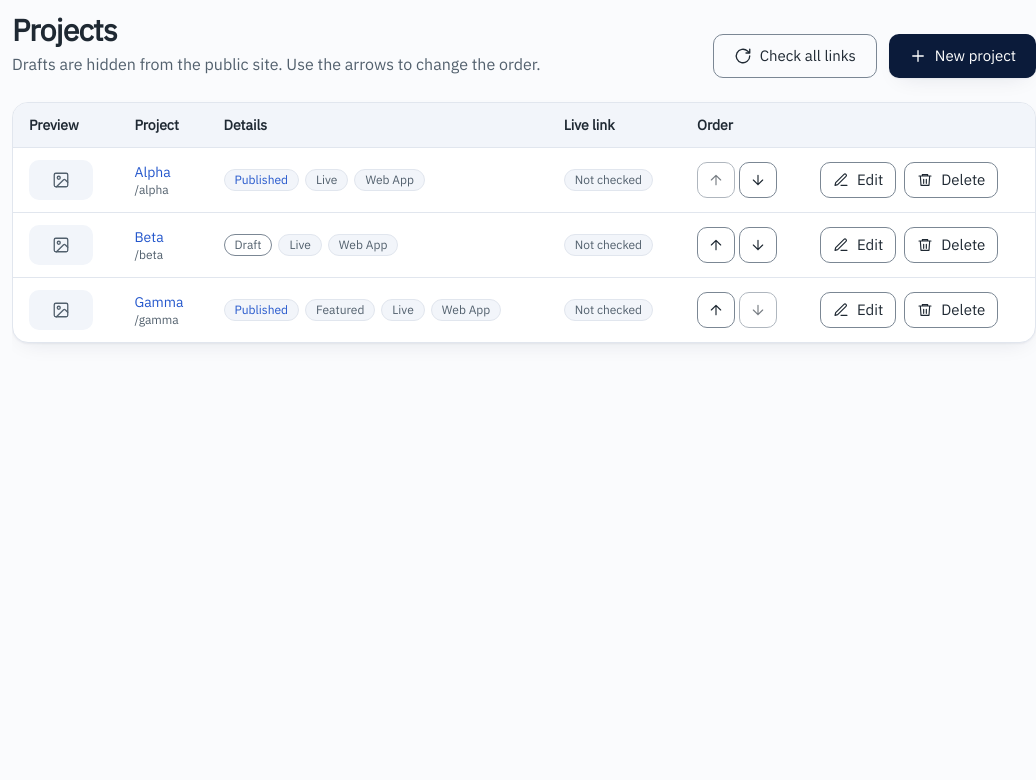
Test: ProjectsPage › checks all links, shows each result with its note, and refreshes the list
Click the button "Check all links". click: coordinates (795, 56)
box: [713, 34, 877, 78]
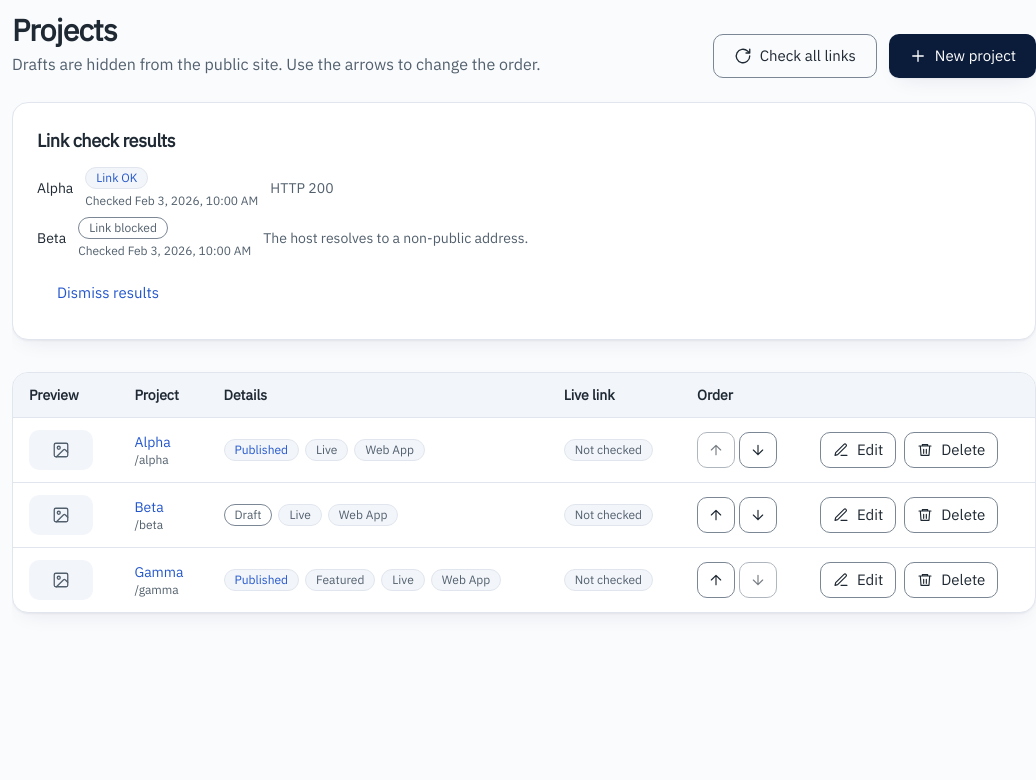
expect the text "Link OK" is shown: met, box [85, 167, 148, 189]
expect the text "Link blocked" is shown: met, box [78, 217, 168, 239]
expect the text "The host resolves to a non-public address." is shown: met, box [263, 228, 528, 248]
